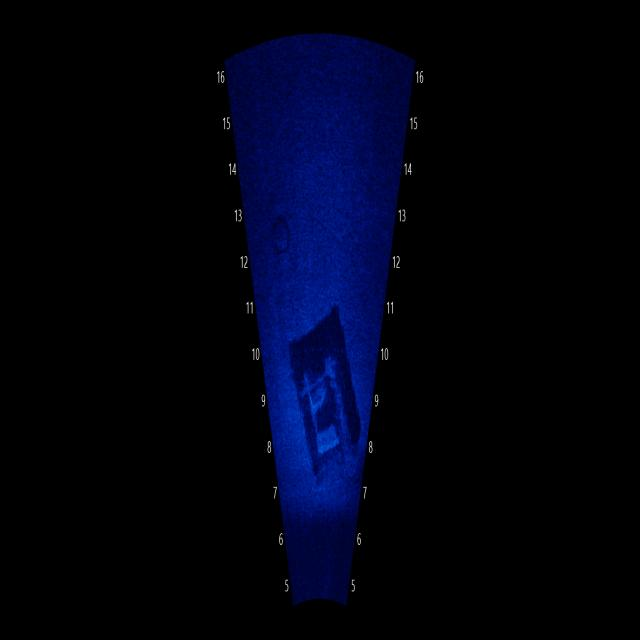square: (289, 338, 360, 486)
